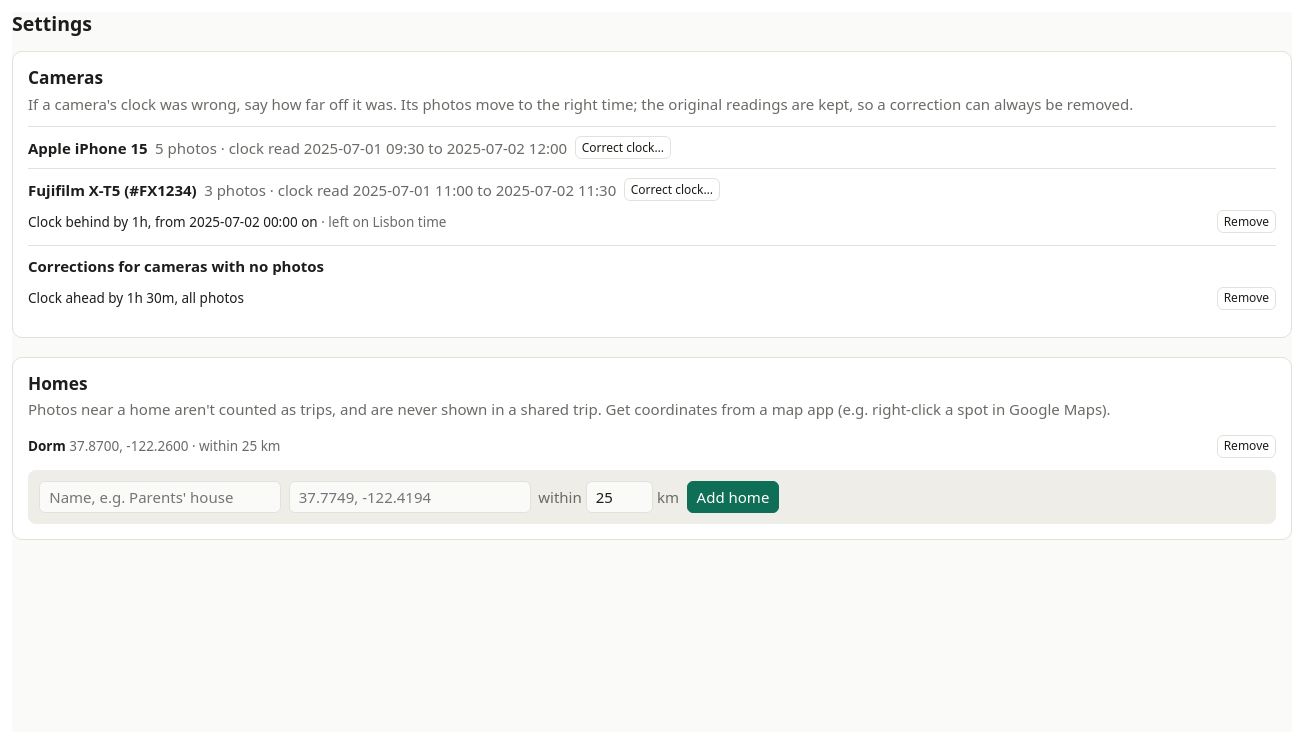
it: cameras › checks the form before sending anything
Step 1. Click the button "Correct clock…" in the row of "5 photos" → (623, 148), box x1=575 y1=136 x2=671 y2=159
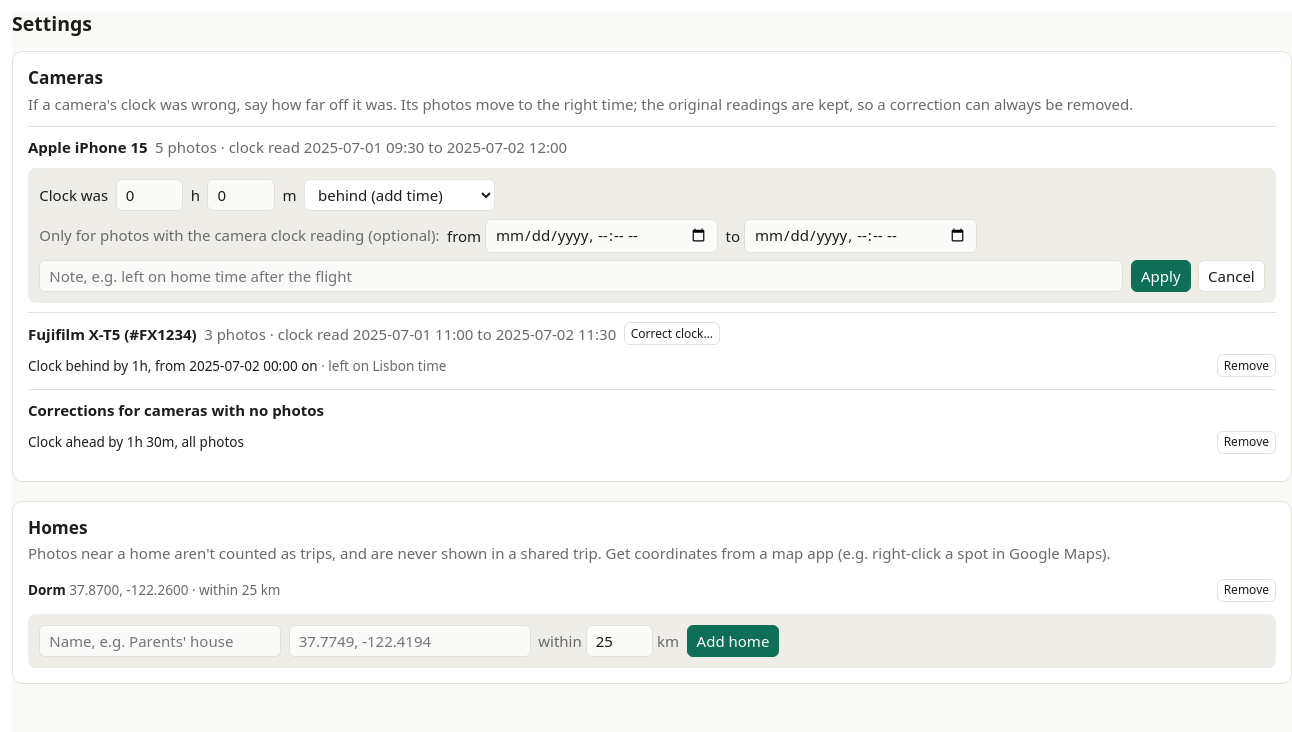
Step 2. Click the button "Apply" → (1161, 276), box x1=1131 y1=260 x2=1191 y2=292
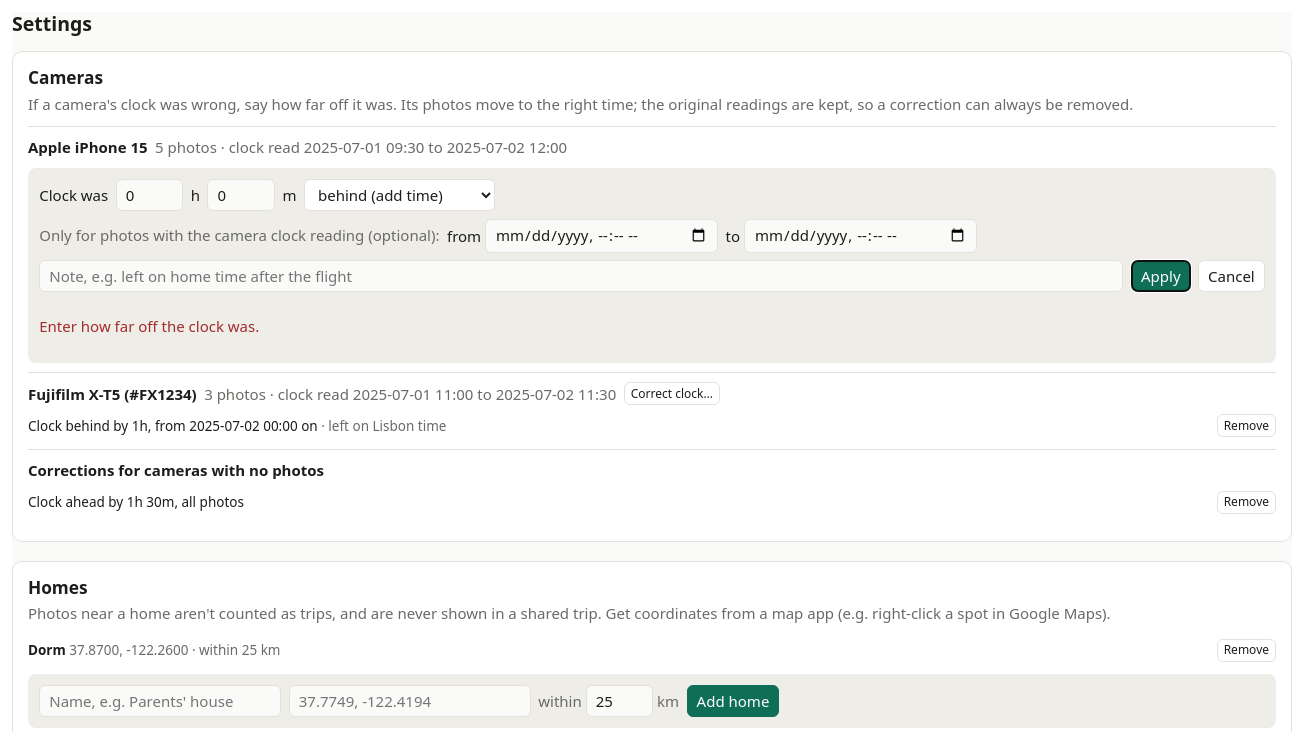
Expected: the message reads "Enter how far off the clock was.", x1=39 y1=316 x2=259 y2=336
Step 3. Type "1" into the number field named "Hours" → (149, 195), box x1=116 y1=179 x2=183 y2=211
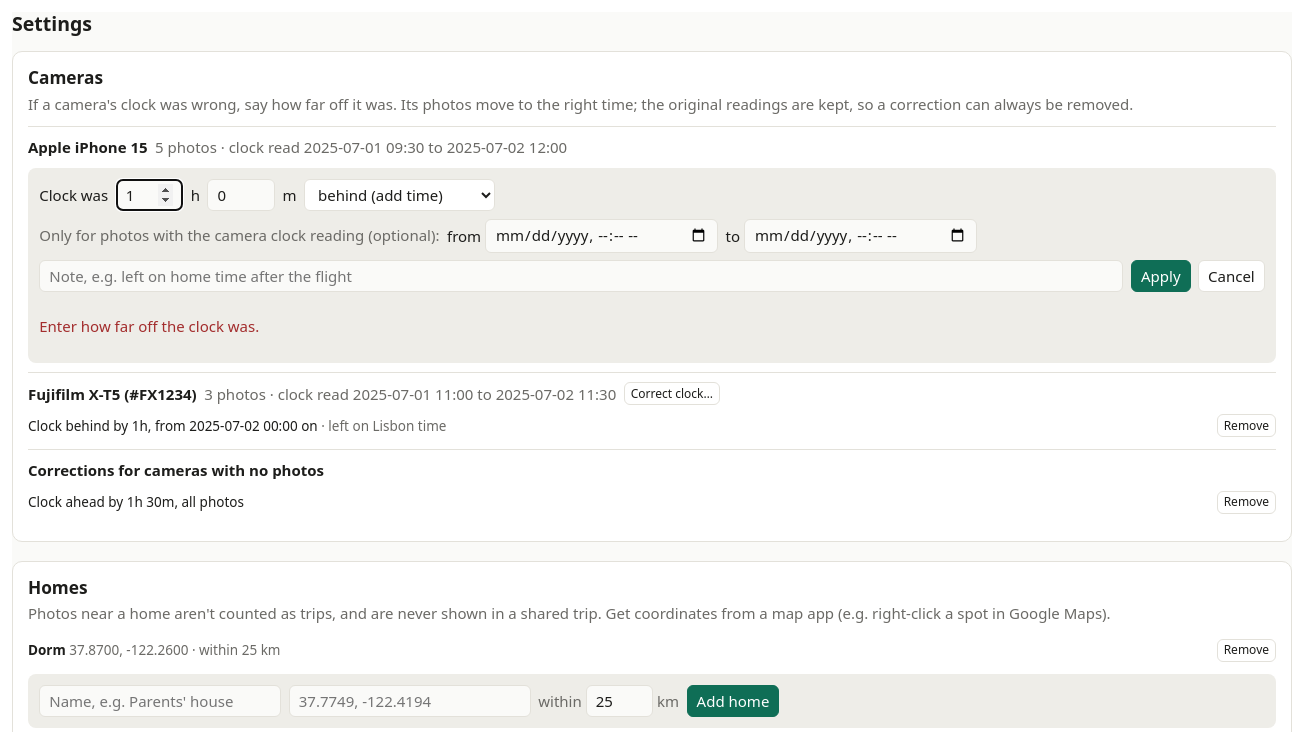
Step 4. Type "2025-07-02T08:00" into the field labelled "from" → (602, 236), box x1=485 y1=219 x2=718 y2=253
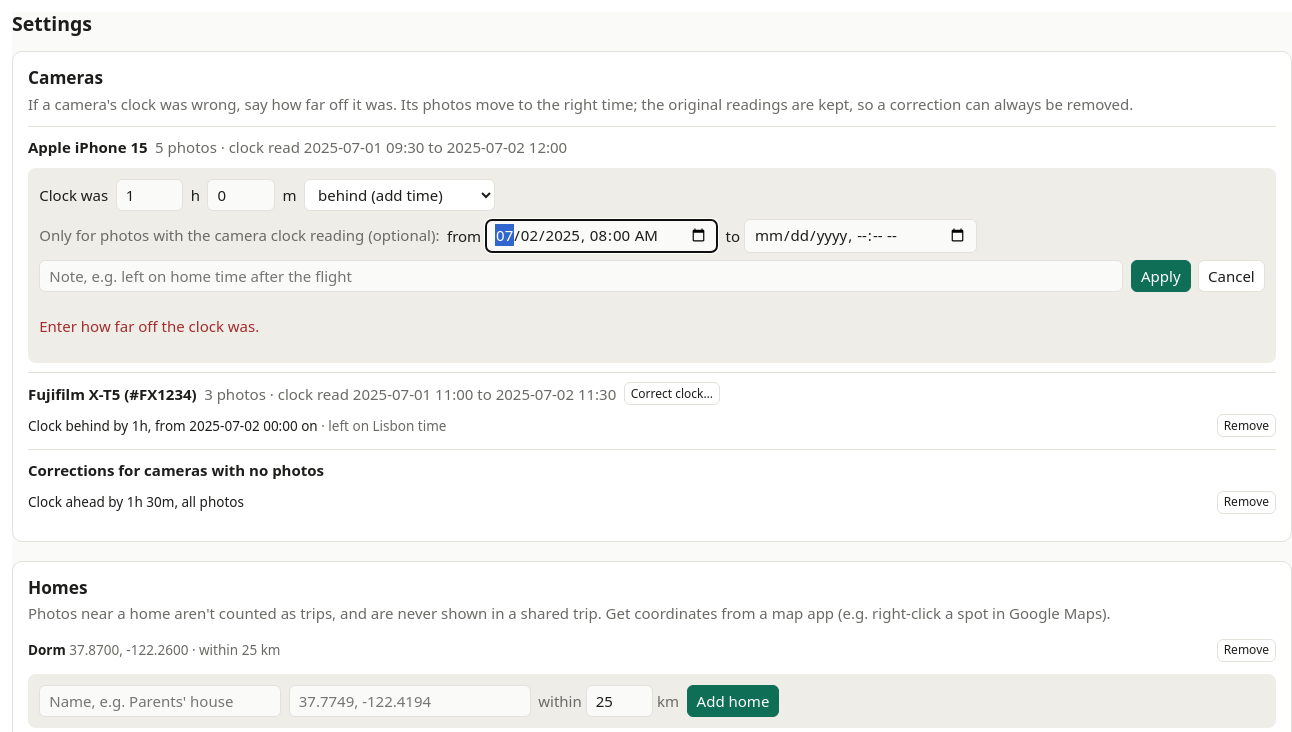
Step 5. Type "2025-07-01T08:00" into the field labelled "to" → (860, 236), box x1=744 y1=219 x2=977 y2=253
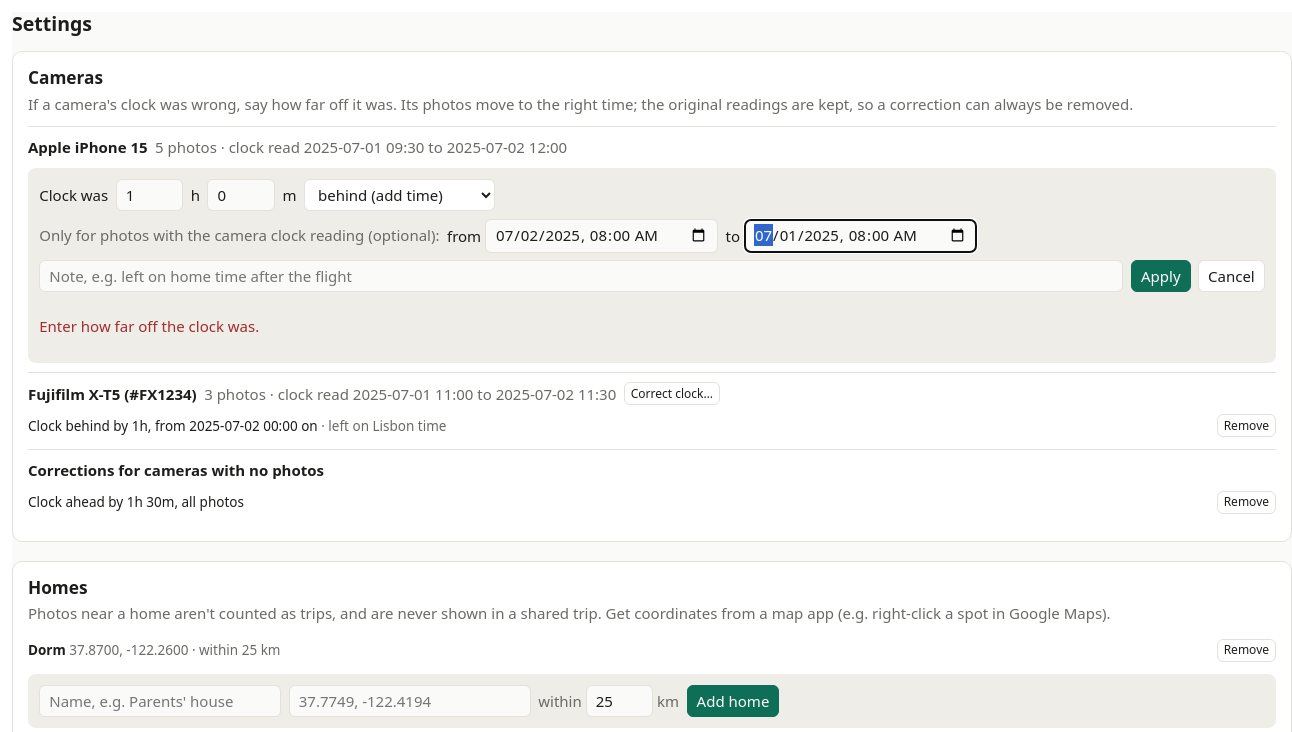
Step 6. Click the button "Apply" → (1161, 276), box x1=1131 y1=260 x2=1191 y2=292
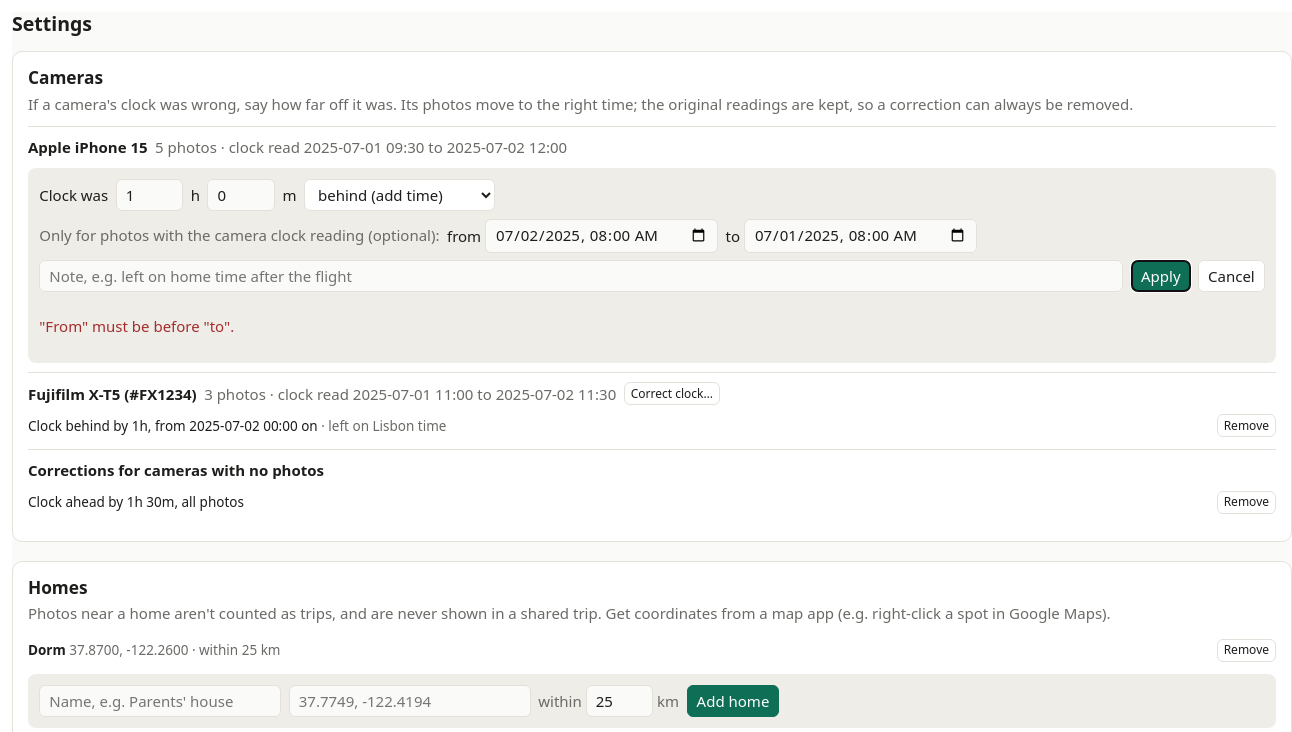
Expected: the message reads "\"From\" must be before \"to\".", x1=39 y1=316 x2=234 y2=336
